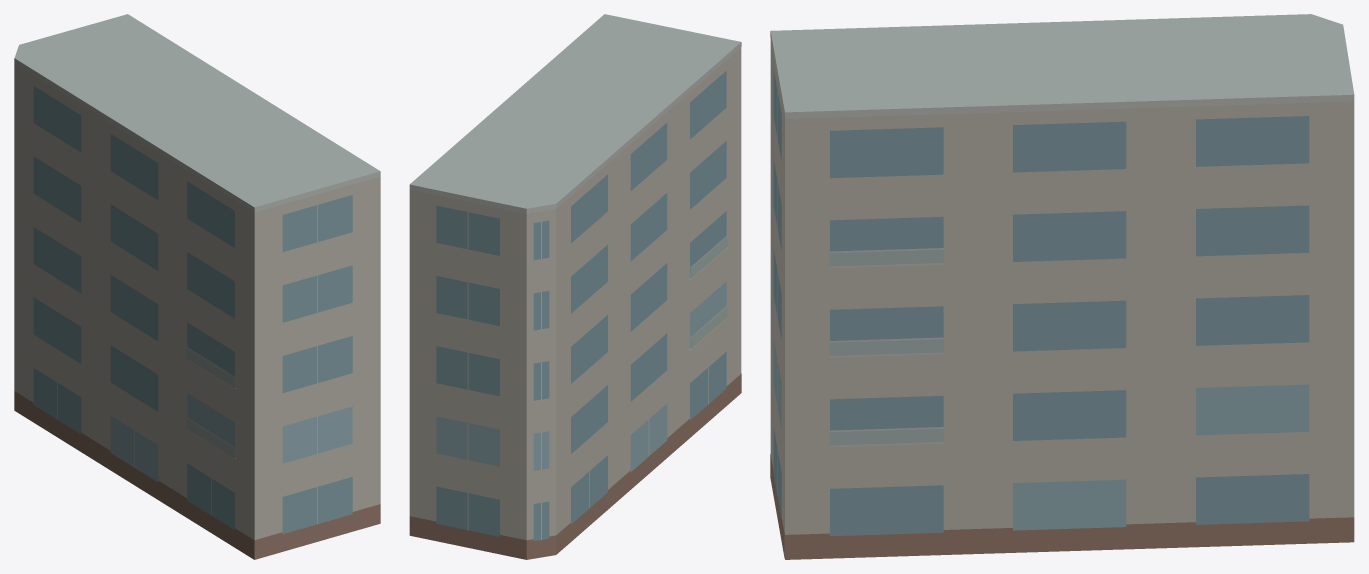
The model's file is survey-upis-32607500.glb.
3 renders of one model, left to right at view 1: azimuth 30°, elevation 25°; view 2: azimuth 150°, elevation 25°; view 3: azimuth 270°, elevation 25°, orthographic. The views are drawn at different scales.
Parts seen in each view (by area): view 1: survey-upis-32607500.tmp; view 2: survey-upis-32607500.tmp; view 3: survey-upis-32607500.tmp.
Part boxes in pixels (bbox=[...]): survey-upis-32607500.tmp: bbox=[14, 14, 380, 559]; survey-upis-32607500.tmp: bbox=[409, 14, 741, 559]; survey-upis-32607500.tmp: bbox=[770, 14, 1354, 559].
Bounding box in the file's own units: 7.83 × 16.6 × 19.64.
